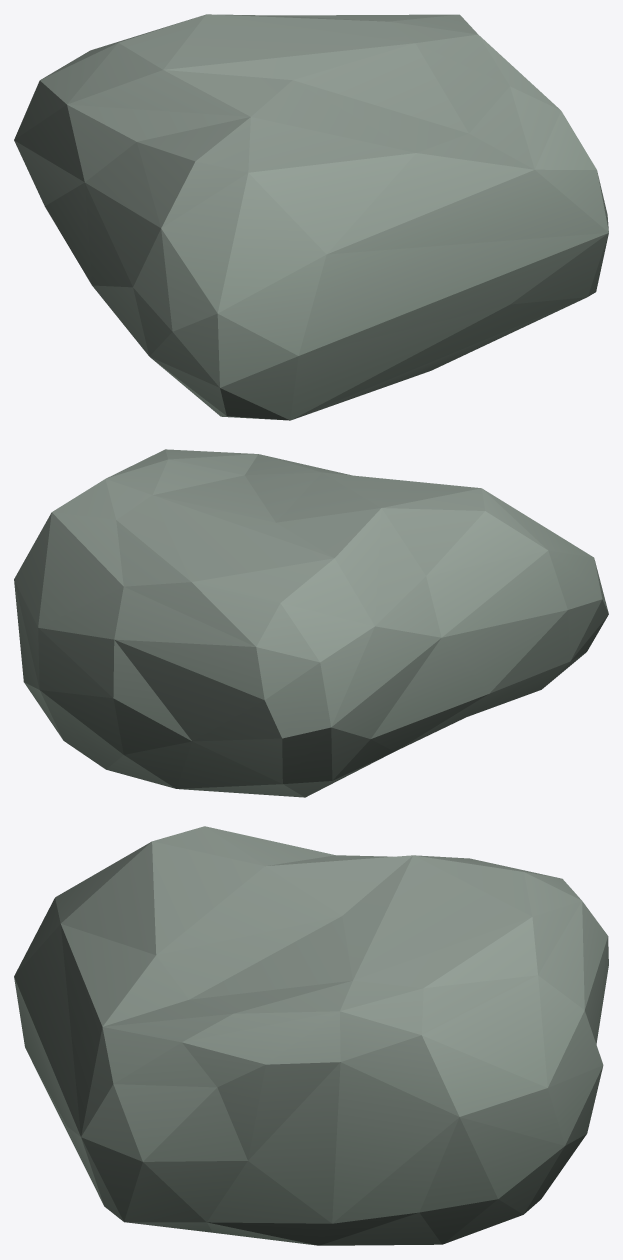
Rendered from rock.fbx.
The picture shows the model from 3 angles, top to bottom: view 1: azimuth 30°, elevation 25°; view 2: azimuth 150°, elevation 25°; view 3: azimuth 270°, elevation 25°; orthographic projection. The views are drawn at different scales.
Visible parts, largest first — view 1: rock1; view 2: rock1; view 3: rock1.
Boxes of the visible parts, x1,y1,x2,y2 form: rock1: [14, 14, 608, 420]; rock1: [14, 449, 608, 797]; rock1: [14, 826, 608, 1245].
Size of the model in its own units: 69.08 by 34.48 by 70.34.
